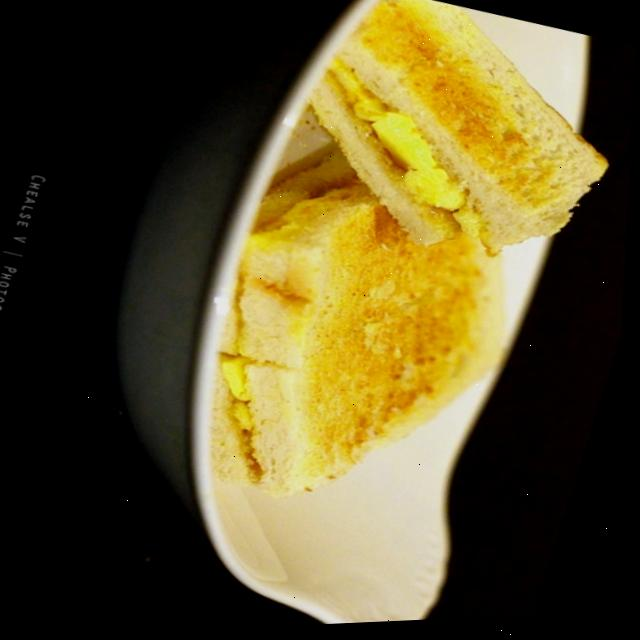面包点心: (120, 0, 640, 578)
